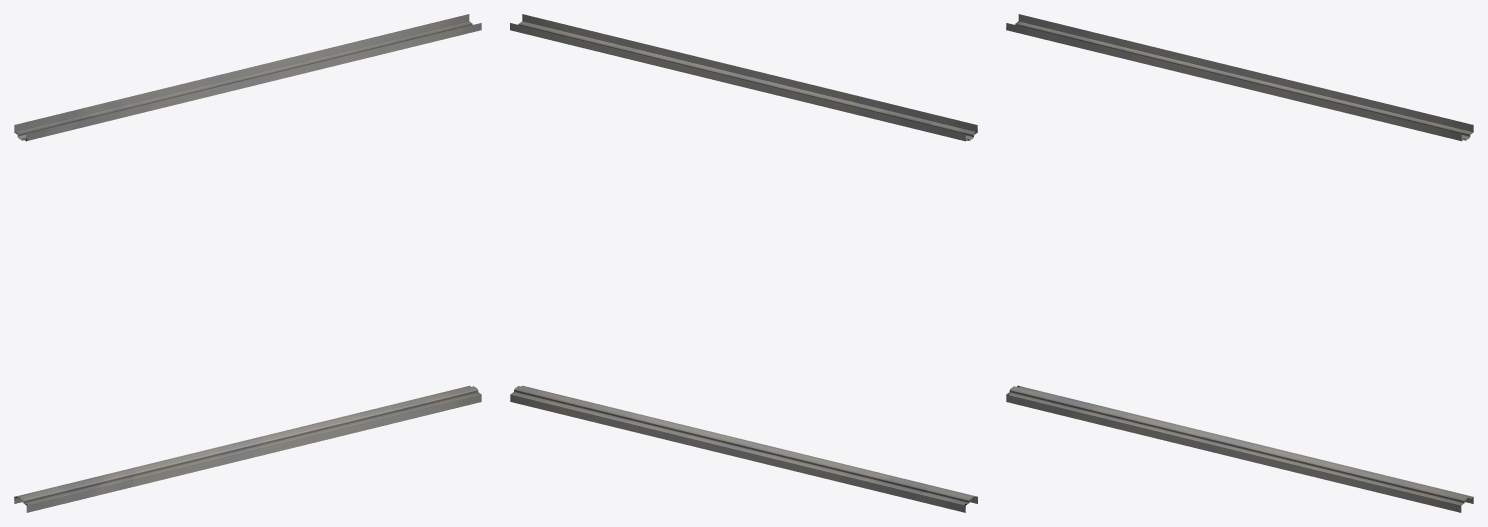
Rendered from props_gameplay_door_grate002_frame.glb.
3 views of the same model, side by side, from view 1: azimuth 30°, elevation 25°; view 2: azimuth 150°, elevation 25°; view 3: azimuth 330°, elevation 25° (orthographic).
Parts seen in each view (by area): view 1: models/props_gameplay/door_grate002_frame; view 2: models/props_gameplay/door_grate002_frame; view 3: models/props_gameplay/door_grate002_frame.
Part boxes in pixels (x1,y1,x2,y2): models/props_gameplay/door_grate002_frame: [14, 14, 481, 512]; models/props_gameplay/door_grate002_frame: [510, 14, 977, 512]; models/props_gameplay/door_grate002_frame: [1006, 14, 1473, 512].
Bounding box in the file's own units: 160 × 127 × 7.55.
Materials: 1 (1 with a texture image).
